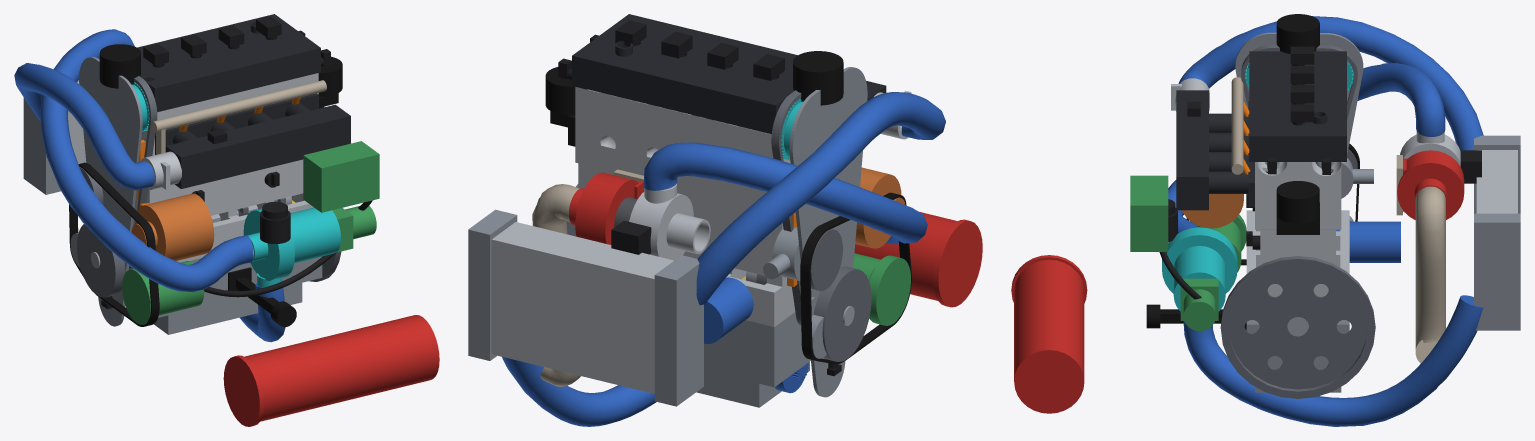
Rendered from NexDrive_STB_Montaj.glb.
3 renders of one model, left to right at view 1: azimuth 30°, elevation 25°; view 2: azimuth 150°, elevation 25°; view 3: azimuth 270°, elevation 25°, orthographic. The views are drawn at different scales.
Visible parts, largest first — view 1: T06, F03, E01, I03, F05, B01, V08, T05, T02, A02, L01, E04 (+19 smaller); view 2: F01, I03, F05, H02, F02, F03, V08, T06, L01, B01, F04, X04 (+21 smaller); view 3: K05, T06, F04, I03, F05, E01, F02, X06, B01, T02, F03, H02 (+20 smaller).
Part boxes in pixels (box(x1,y1,x2,y2)): T06: box(223, 315, 439, 426); F03: box(40, 29, 253, 292); E01: box(155, 93, 350, 188); I03: box(137, 14, 320, 112); F05: box(14, 63, 154, 190); B01: box(133, 159, 313, 262); V08: box(79, 57, 142, 326); T05: box(303, 141, 379, 212); T02: box(243, 207, 340, 287); A02: box(131, 193, 214, 260); L01: box(154, 256, 322, 334); E04: box(151, 80, 326, 154); F01: box(491, 222, 673, 393); I03: box(572, 14, 797, 133); F05: box(696, 92, 945, 305); H02: box(575, 87, 790, 205); F02: box(468, 209, 703, 406); F03: box(643, 142, 927, 244); V08: box(789, 67, 867, 397); T06: box(854, 212, 982, 307); L01: box(696, 333, 810, 407); B01: box(578, 163, 795, 326); F04: box(502, 357, 656, 426); X04: box(629, 183, 710, 260); K05: box(1220, 256, 1375, 398); T06: box(1011, 255, 1087, 413); F04: box(1183, 295, 1483, 426); I03: box(1249, 51, 1346, 161); F05: box(1178, 16, 1483, 150); E01: box(1176, 90, 1254, 210); F02: box(1474, 135, 1520, 330); X06: box(1415, 186, 1445, 363); B01: box(1246, 210, 1349, 324); T02: box(1162, 227, 1237, 311); F03: box(1168, 63, 1445, 233); H02: box(1255, 162, 1341, 229).
Size of the model in its own units: 632 by 670 by 941.
